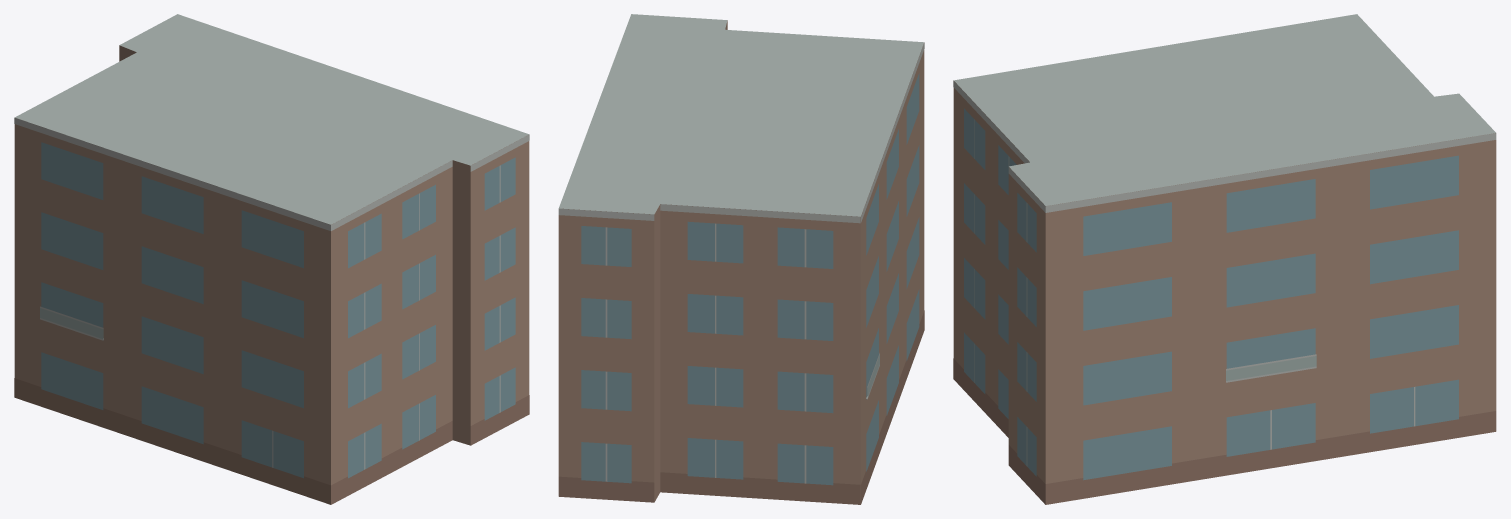
The model's file is survey-upis-33031052.glb.
3 renders of one model, left to right at view 1: azimuth 30°, elevation 25°; view 2: azimuth 150°, elevation 25°; view 3: azimuth 270°, elevation 25°, orthographic. The views are drawn at different scales.
Parts seen in each view (by area): view 1: survey-upis-33031052.tmp; view 2: survey-upis-33031052.tmp; view 3: survey-upis-33031052.tmp.
Part boxes in pixels (x1,y1,x2,y2): survey-upis-33031052.tmp: [14, 14, 529, 504]; survey-upis-33031052.tmp: [558, 14, 924, 504]; survey-upis-33031052.tmp: [953, 14, 1496, 504].
Bounding box in the file's own units: 14.63 × 10.6 × 17.46.
